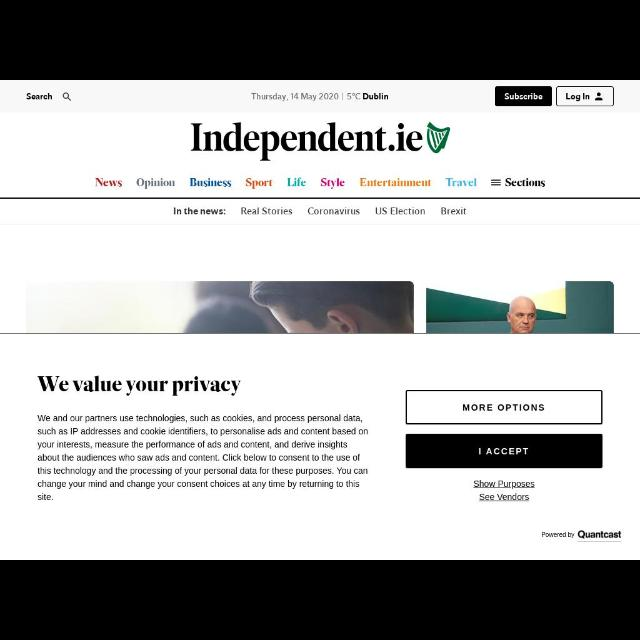icon: (61, 91, 71, 101), (492, 178, 502, 188), (596, 92, 602, 101)
image: (426, 122, 450, 154)
text: (37, 414, 369, 500), (190, 122, 424, 160), (38, 374, 240, 398), (251, 91, 389, 103), (360, 177, 432, 189), (462, 403, 544, 413), (541, 530, 623, 540), (474, 478, 534, 489), (477, 447, 528, 458), (188, 178, 234, 190), (240, 206, 294, 216), (172, 206, 224, 216), (307, 207, 359, 217), (374, 206, 426, 216), (135, 178, 175, 190), (504, 92, 544, 102), (505, 177, 545, 187), (478, 494, 532, 501), (95, 177, 124, 190), (438, 206, 468, 217), (245, 178, 272, 190), (446, 178, 476, 188), (284, 177, 308, 189), (25, 92, 53, 102), (564, 92, 590, 102), (320, 179, 346, 189)
textbutton: (406, 391, 602, 424), (406, 436, 602, 468), (557, 86, 613, 106), (496, 86, 550, 106)
